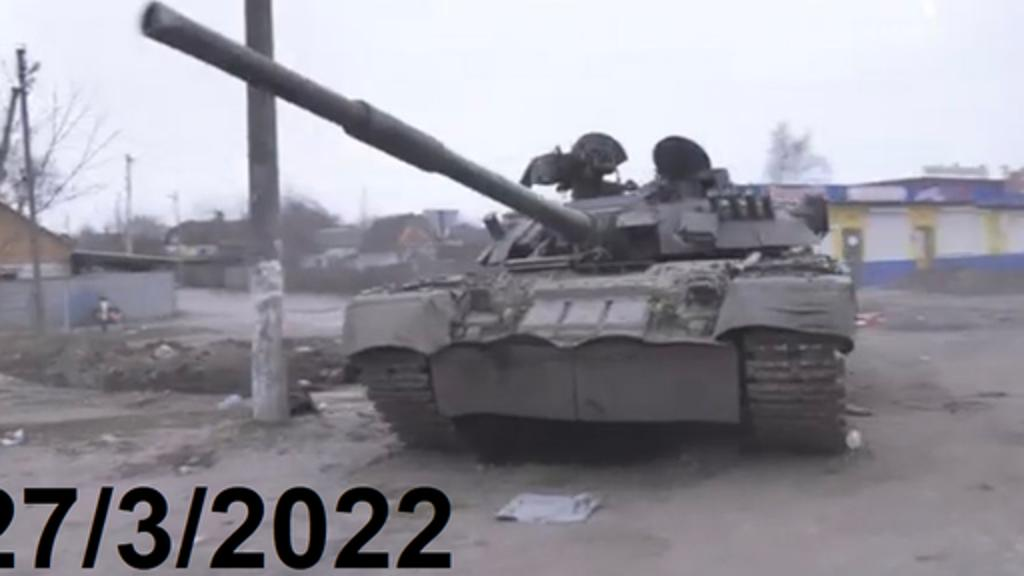TANK: (138, 2, 874, 468)
